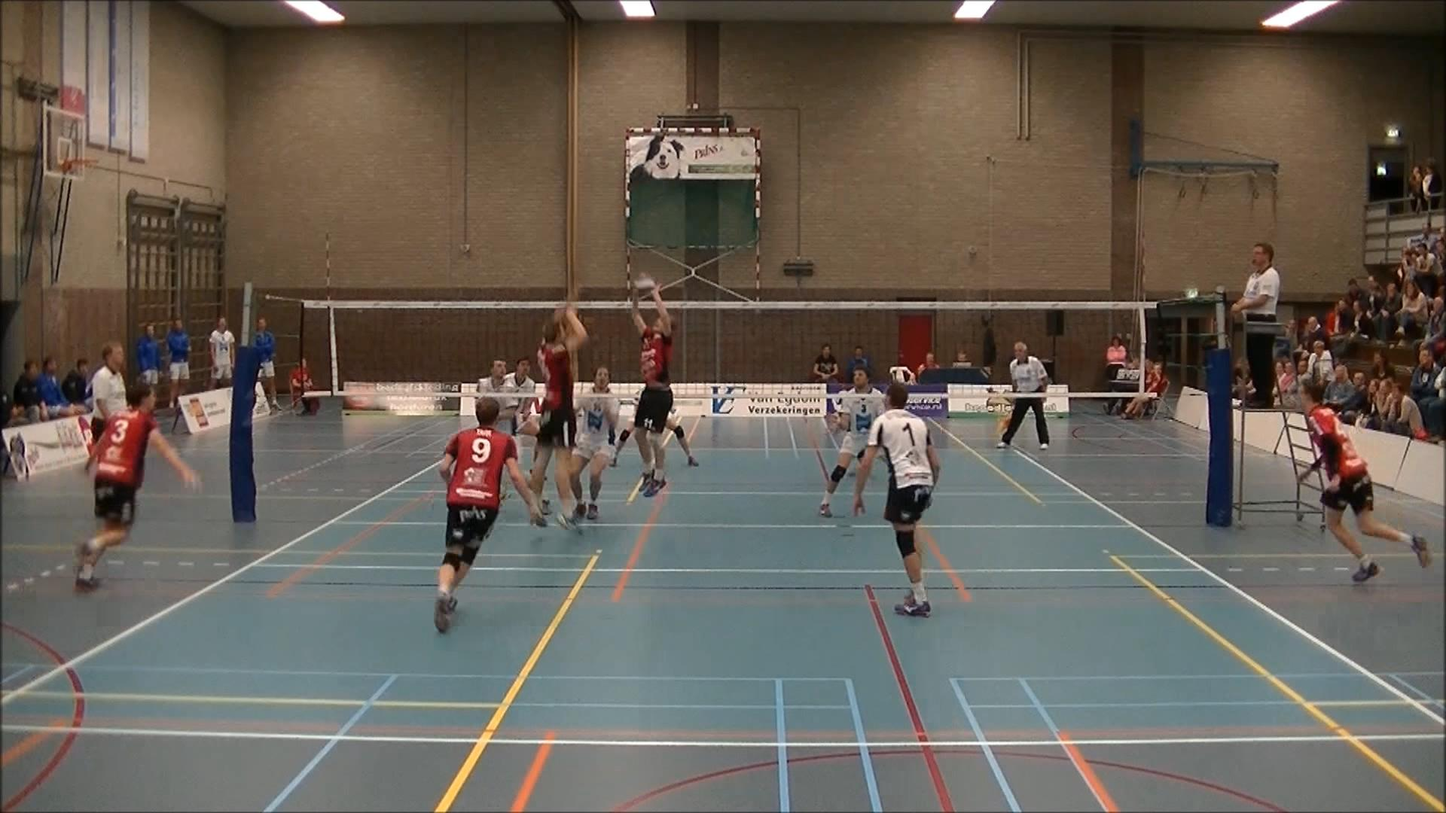Attack: (523, 287, 594, 542)
Player: (1300, 381, 1431, 582), (75, 382, 198, 590), (434, 396, 540, 632), (853, 384, 940, 617), (819, 367, 883, 516), (572, 367, 618, 519), (478, 358, 537, 458), (477, 360, 516, 431), (665, 415, 699, 467)
Set: (618, 277, 687, 493)
ball: (626, 267, 655, 300)
